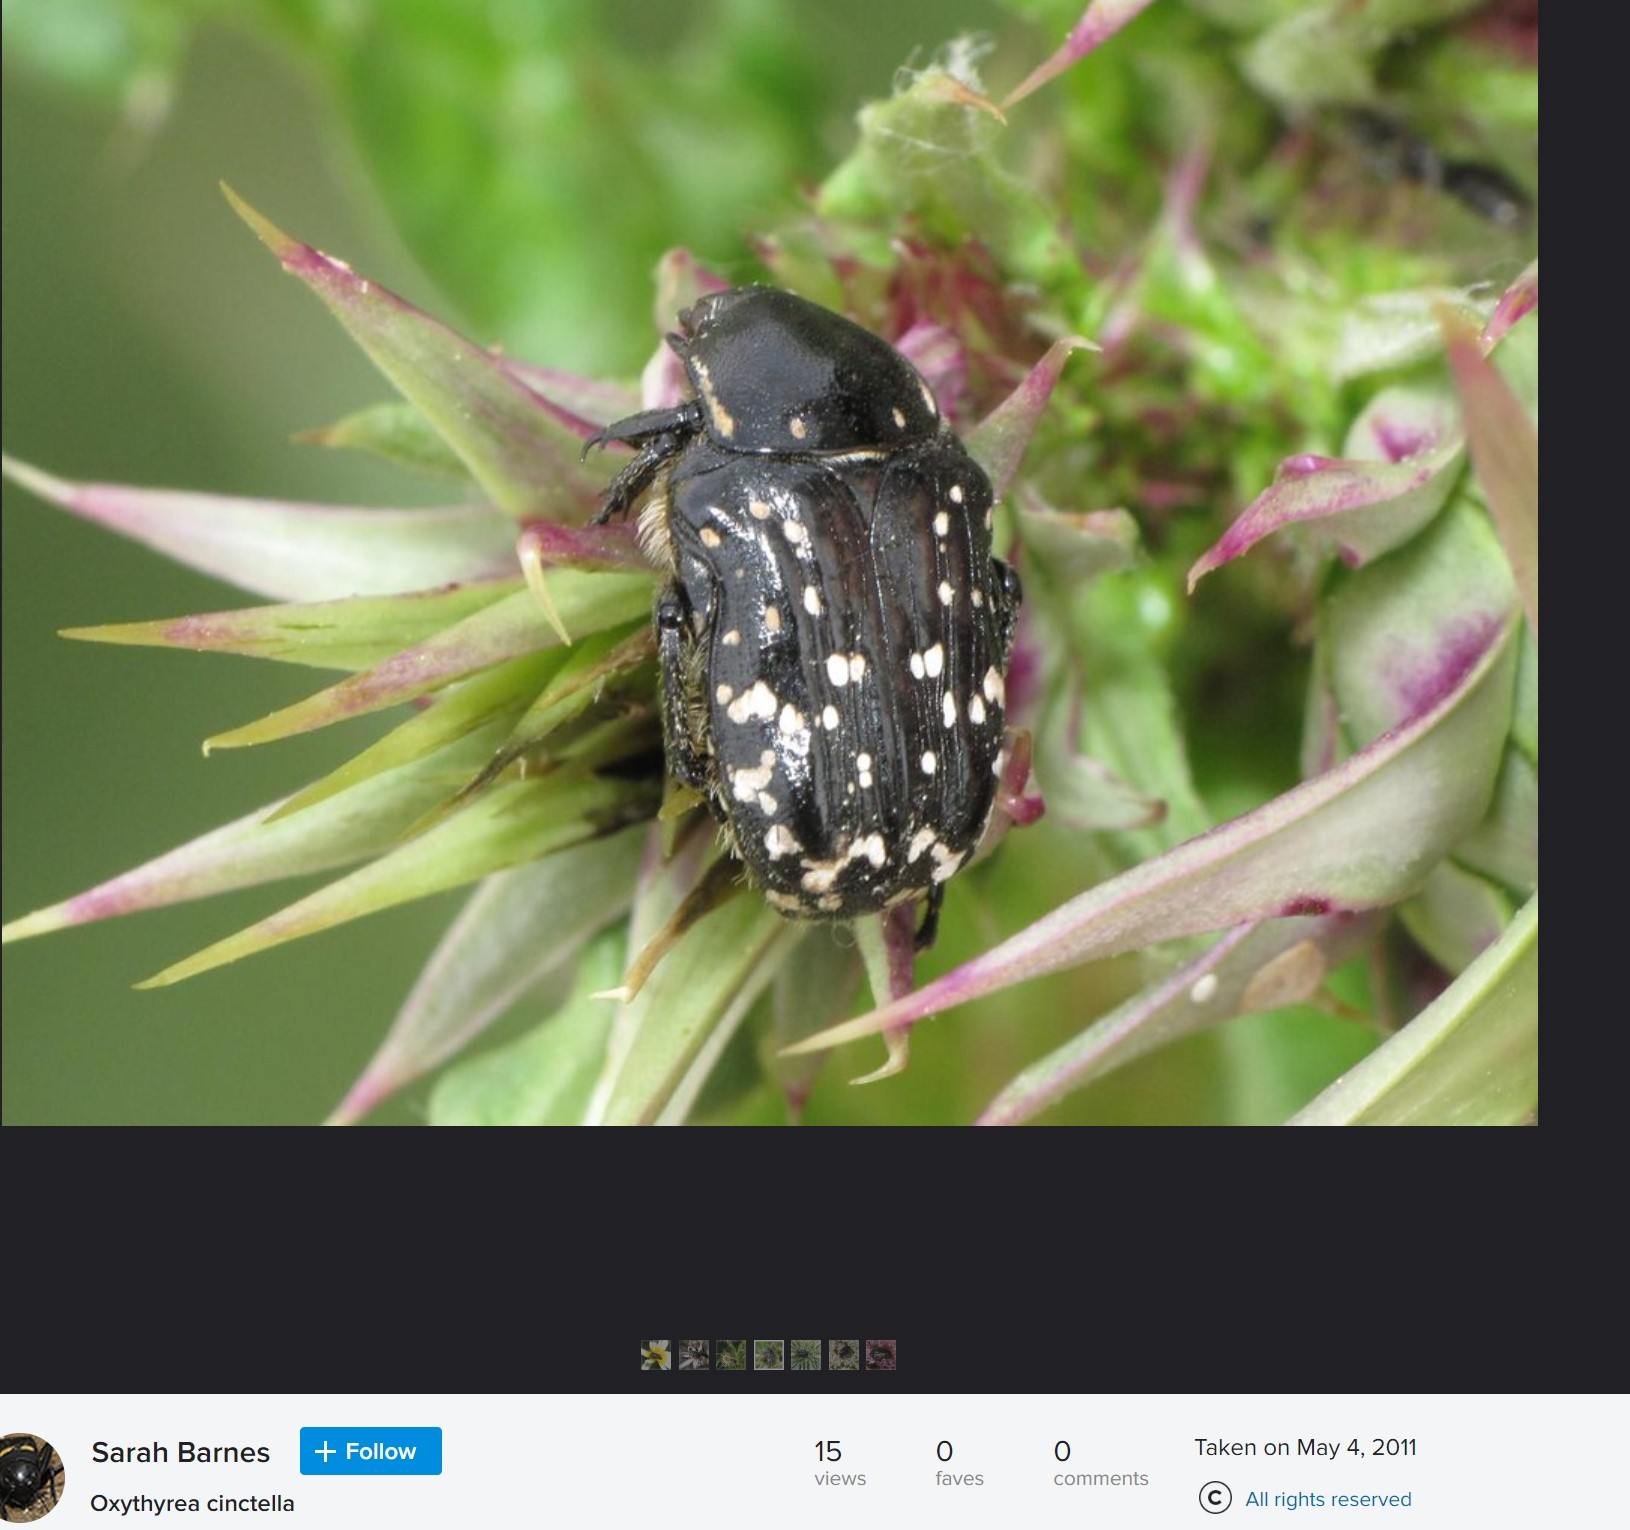Oxythyrea_cinctella: (571, 263, 1042, 985)
